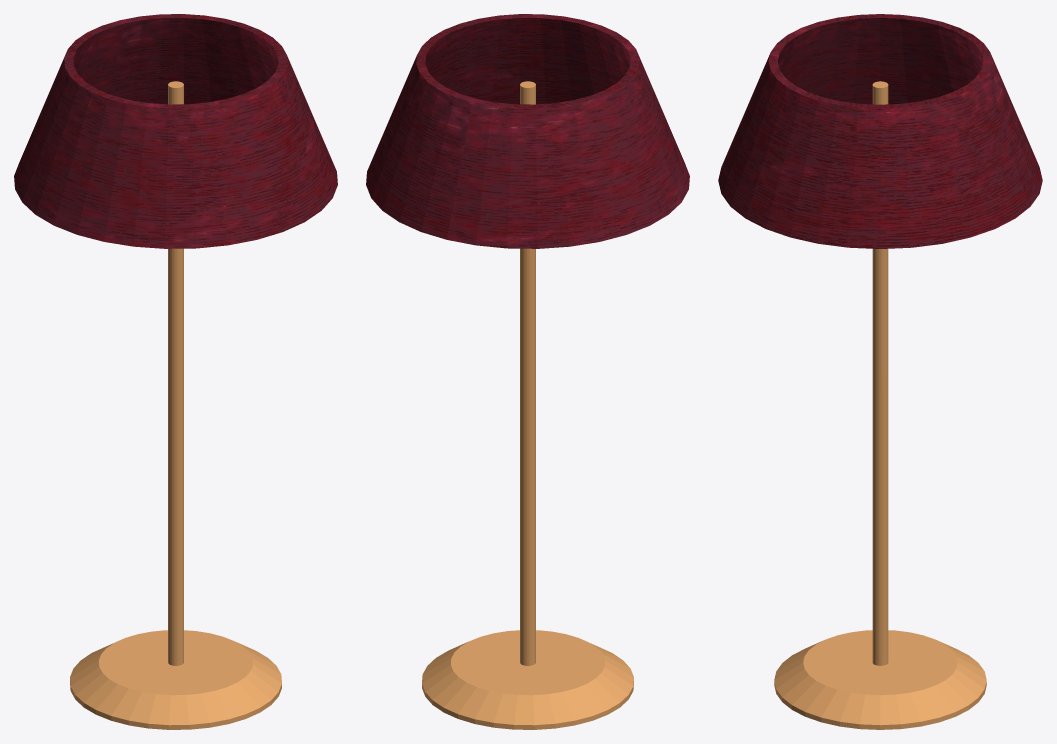
File: evreything.fbx_Collection_3.fbx
3 renders of one model, left to right at view 1: azimuth 30°, elevation 25°; view 2: azimuth 150°, elevation 25°; view 3: azimuth 270°, elevation 25°, orthographic.
Parts seen in each view (by area): view 1: Cylinder.002, Cylinder.001, Cylinder; view 2: Cylinder.002, Cylinder.001, Cylinder; view 3: Cylinder.002, Cylinder.001, Cylinder.
Part boxes in pixels (x1,y1,x2,y2): Cylinder.002: (14,14,337,248); Cylinder.001: (70,630,281,729); Cylinder: (168,81,183,665); Cylinder.002: (366,14,689,248); Cylinder.001: (422,630,633,729); Cylinder: (520,81,535,665); Cylinder.002: (718,14,1042,248); Cylinder.001: (774,630,986,729); Cylinder: (872,81,888,665).
Size of the model in its own units: 176 by 374 by 176.
Materials: 2 (1 with a texture image).
